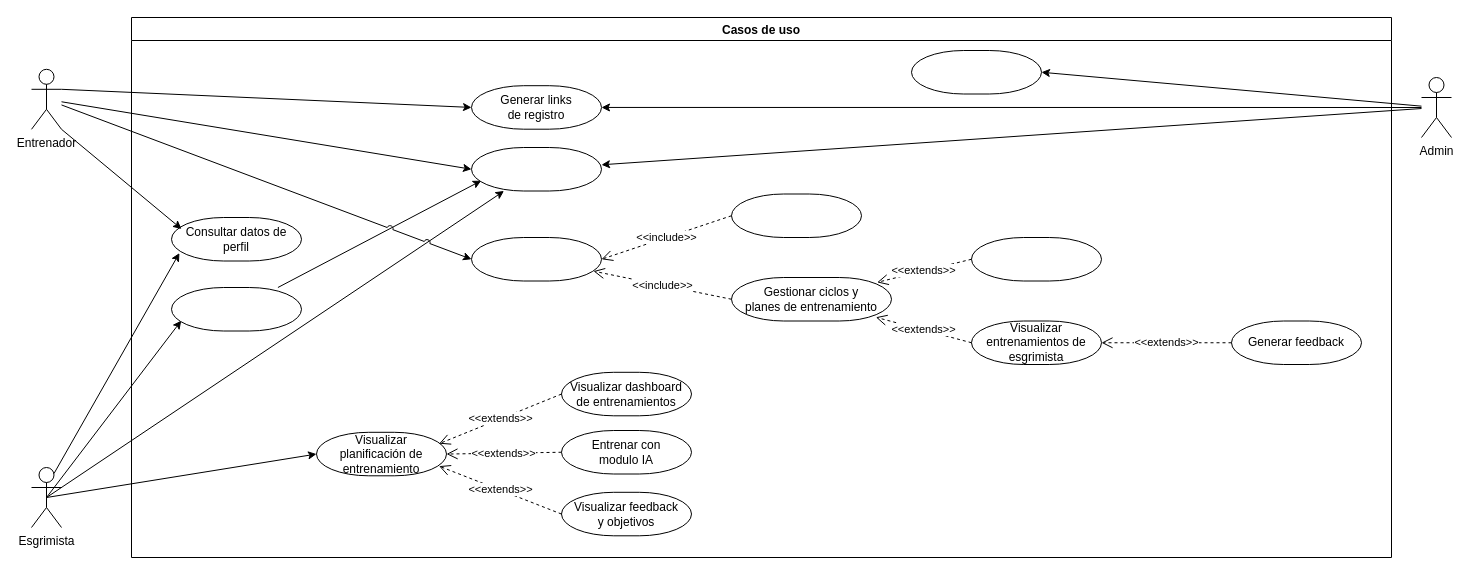
The diagram is 1471 pixels wide and 575 high, and some of its shapes have lost their labels. Each missing label, with the box of its shape:
Crear grupo de entrenamiento: (470, 236, 602, 281)
Editar datos de usuarios: (910, 50, 1042, 94)
Generar objetivos: (970, 236, 1102, 281)
Gestionar miembros de grupos: (730, 193, 862, 238)
Insertar datos de perfil: (170, 286, 302, 331)
Log in/Sign up: (470, 146, 602, 191)
